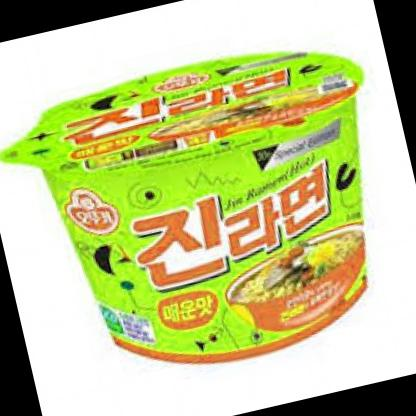Ramen: (6, 27, 412, 394)
